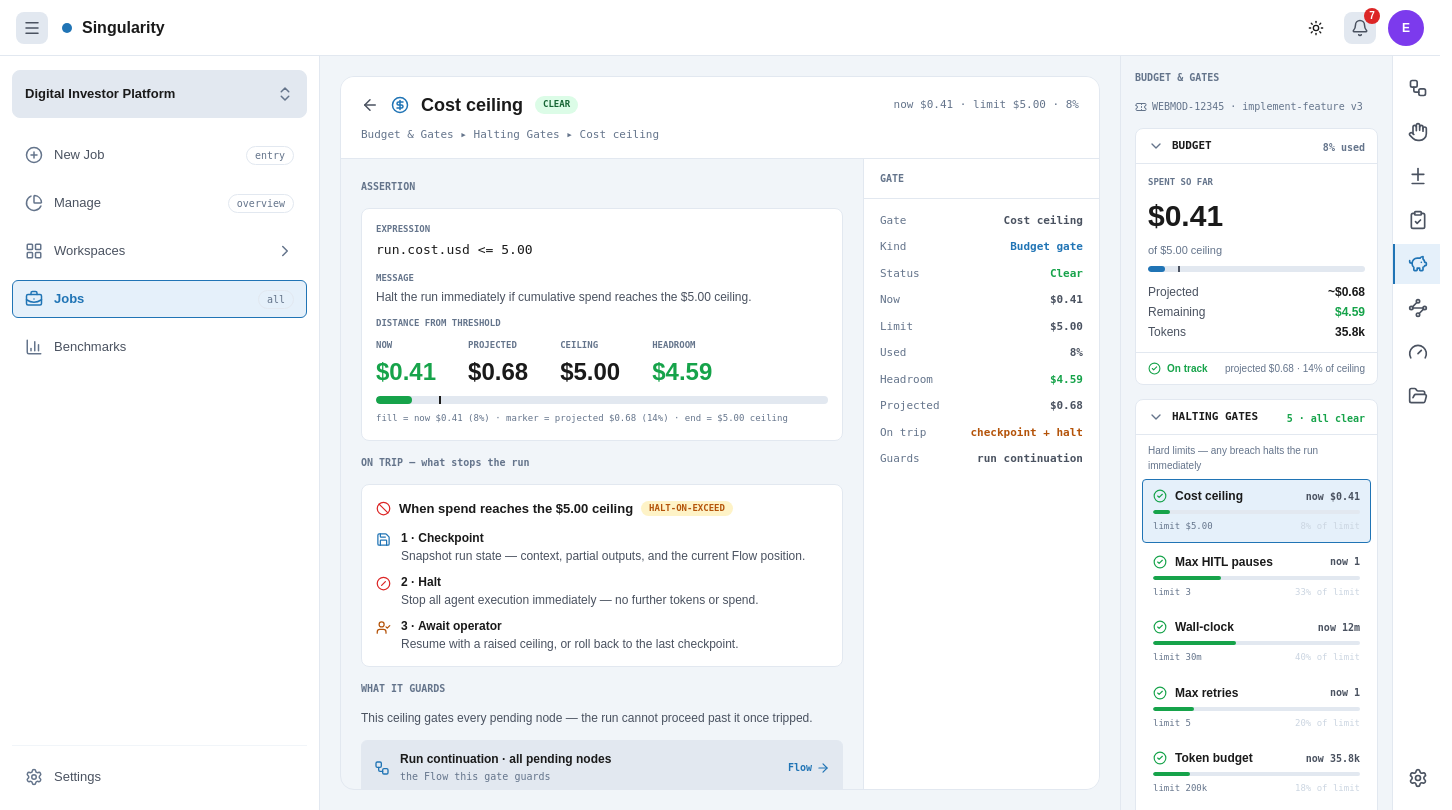
Test: Budget & Gates section › selecting another gate swaps to its minimal detail
The width and height of the screenshot is (1452, 810).
expect the heading "Cost ceiling" is shown: met, box [421, 91, 523, 119]
Click the button "Wall-clock". click: click(1256, 642)
box: [1142, 610, 1371, 674]
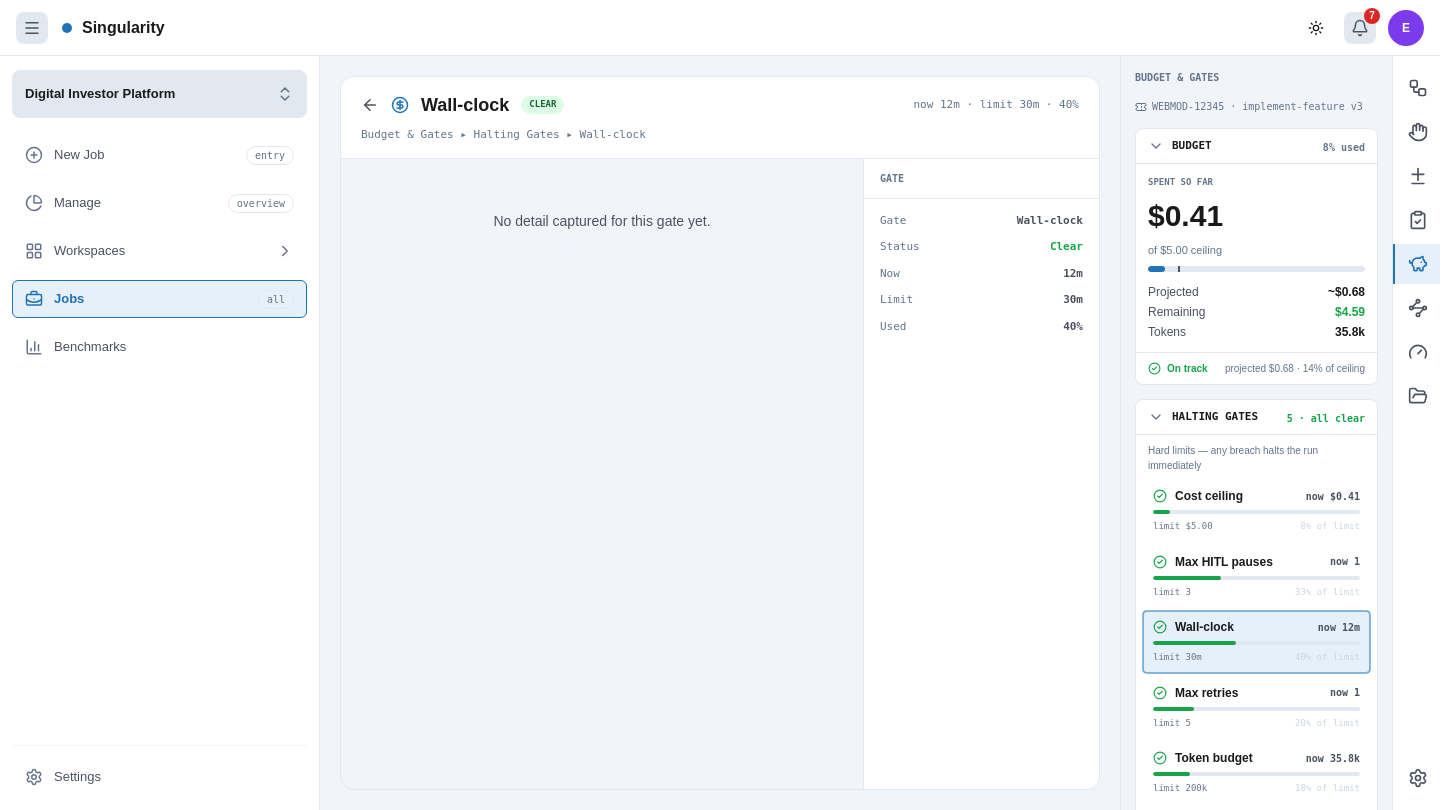
expect the heading "Wall-clock" is shown: met, box [421, 91, 509, 119]
expect the text "No detail captured for this gate yet." is shown: met, box [493, 212, 710, 228]
